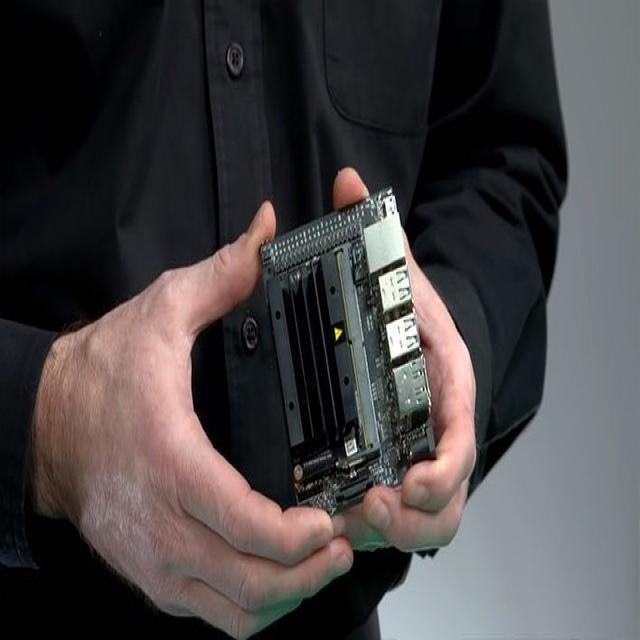Jetson Nano: (261, 188, 436, 516)
